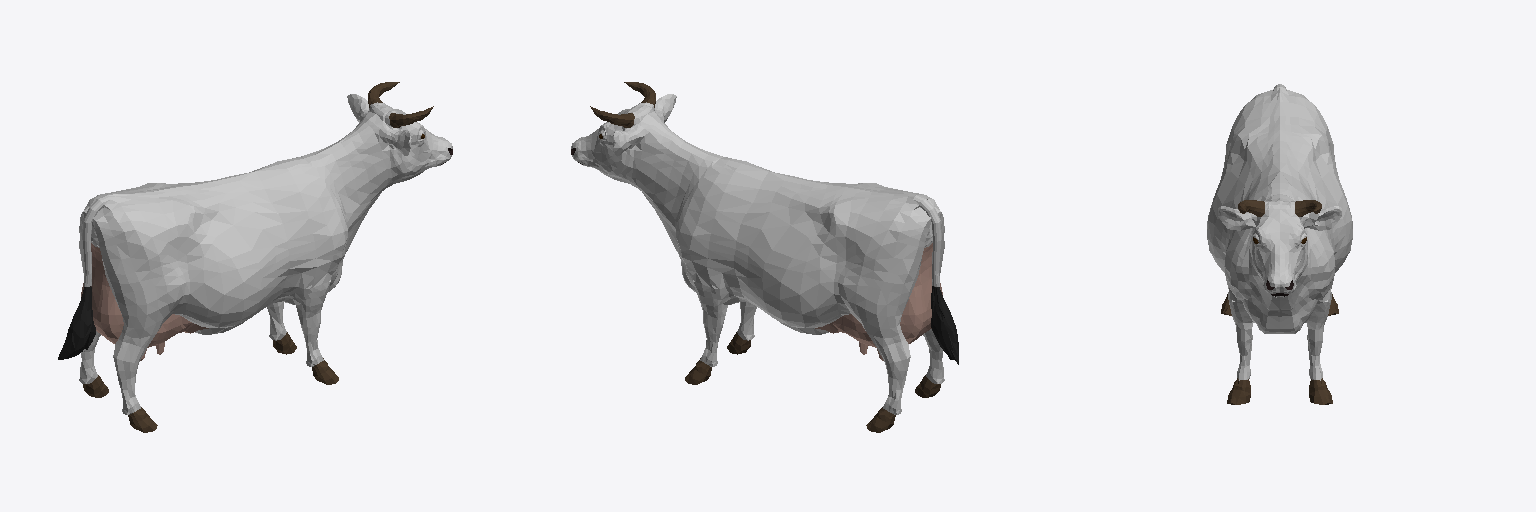
Rendered from Cow.obj.
3 renders of one model, left to right at view 1: azimuth 30°, elevation 25°; view 2: azimuth 150°, elevation 25°; view 3: azimuth 270°, elevation 25°, orthographic.
Visible parts, largest first — view 1: Cow:Object0_2 Cow:SketchUp Cow:download_mid_5ef[number redacted]d7092b90, Cow:Object4_1 Cow:SketchUp Cow:download_mid_5ef[number redacted]d7092b90, Cow:Object_2 Cow:SketchUp Cow:download_mid_5ef[number redacted]d7092b90e; view 2: Cow:Object0_2 Cow:SketchUp Cow:download_mid_5ef[number redacted]d7092b90, Cow:Object4_1 Cow:SketchUp Cow:download_mid_5ef[number redacted]d7092b90, Cow:Object_2 Cow:SketchUp Cow:download_mid_5ef[number redacted]d7092b90e; view 3: Cow:Object0_2 Cow:SketchUp Cow:download_mid_5ef[number redacted]d7092b90.
Part boxes in pixels (x1,y1,x2,y2): Cow:Object0_2 Cow:SketchUp Cow:download_mid_5ef[number redacted]d7092b90: (79, 94, 452, 414); Cow:Object4_1 Cow:SketchUp Cow:download_mid_5ef[number redacted]d7092b90: (81, 243, 208, 360); Cow:Object_2 Cow:SketchUp Cow:download_mid_5ef[number redacted]d7092b90e: (58, 286, 95, 359); Cow:Object0_2 Cow:SketchUp Cow:download_mid_5ef[number redacted]d7092b90: (571, 94, 944, 414); Cow:Object4_1 Cow:SketchUp Cow:download_mid_5ef[number redacted]d7092b90: (815, 243, 942, 360); Cow:Object_2 Cow:SketchUp Cow:download_mid_5ef[number redacted]d7092b90e: (931, 286, 958, 364); Cow:Object0_2 Cow:SketchUp Cow:download_mid_5ef[number redacted]d7092b90: (1207, 84, 1352, 380).
Size of the model in its own units: 2.61 by 1.58 by 0.8495.